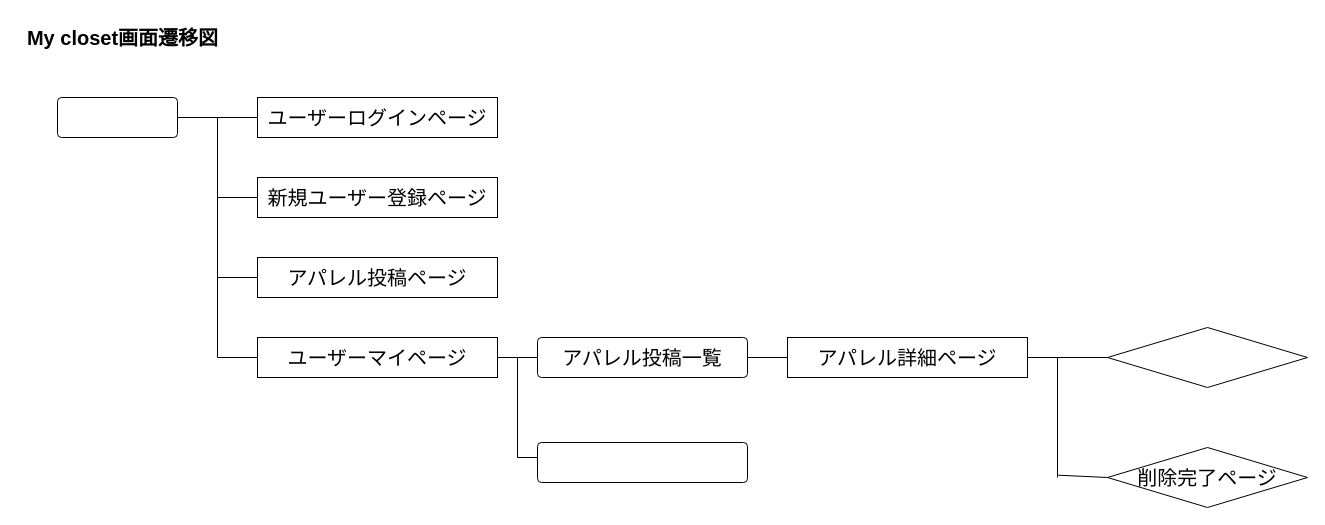
The diagram is 1325 pixels wide and 525 high, and some of its shapes have lost their labels. Each missing label, with the centre of its shape:
"一覧ページ" goes at (x=117, y=117).
"欲しいアパレルメモ" goes at (x=642, y=462).
"編集ページ" goes at (x=1207, y=357).
